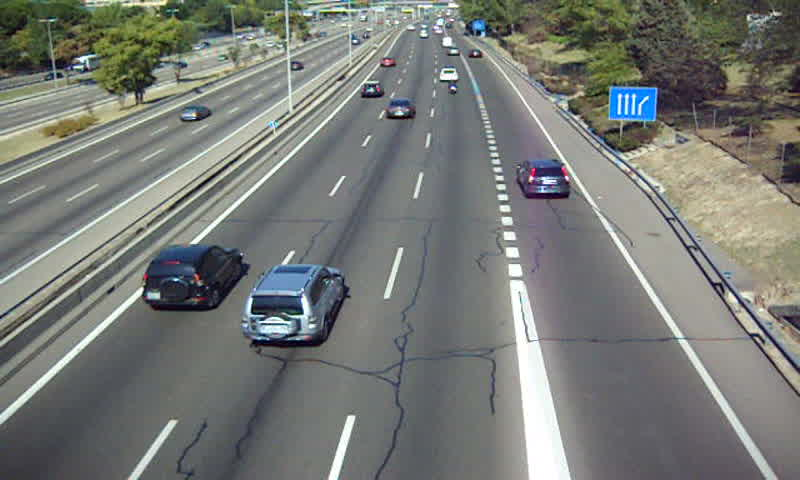car: (242, 264, 344, 344), (143, 244, 241, 310), (517, 160, 573, 198), (384, 99, 416, 121), (360, 80, 386, 100), (438, 67, 459, 81), (379, 56, 398, 68)
motorcycle: (447, 80, 459, 96)
